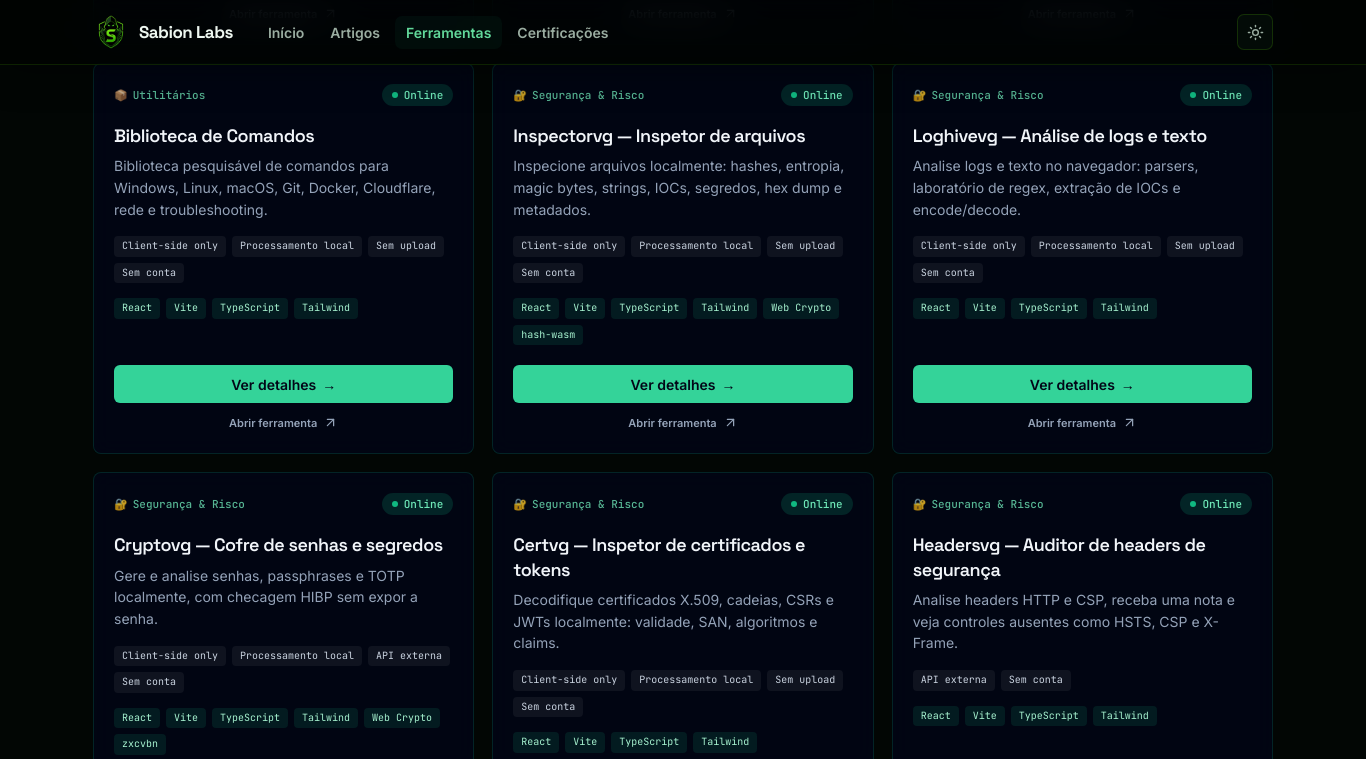
Test: App › opens a permanent Lab detail route
The image size is (1366, 759).
(page scrolled)
Expected: the text "Inspectorvg — Inspetor de arquivos" is shown, [513,124,805,147]
Step 1. Click the link "Ver detalhes →" below "Inspectorvg — Inspetor de arquivos" → (683, 384), box [513,365,853,403]
(page scrolled)
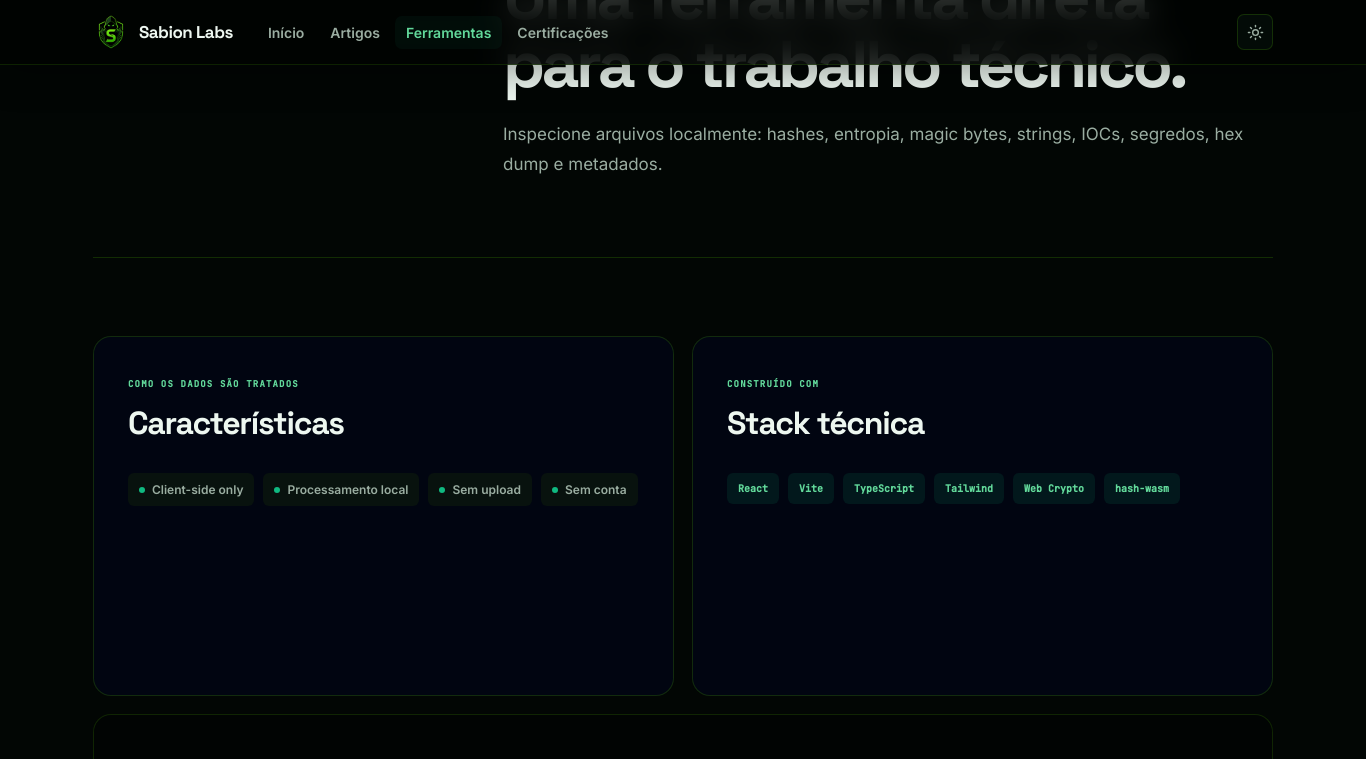
Result: the text "COMO OS DADOS SÃO TRATADOS" is shown at [128,378,299,390]
